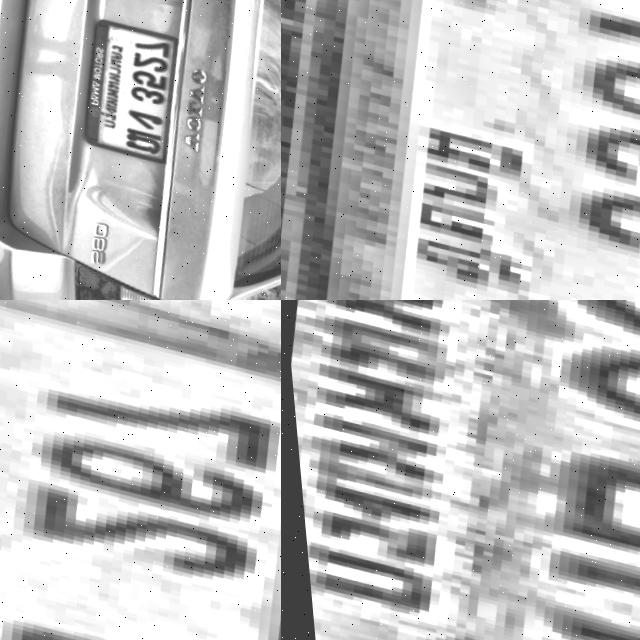license-plate: (281, 300, 640, 640), (281, 0, 640, 300), (0, 300, 281, 640), (65, 12, 188, 163)
